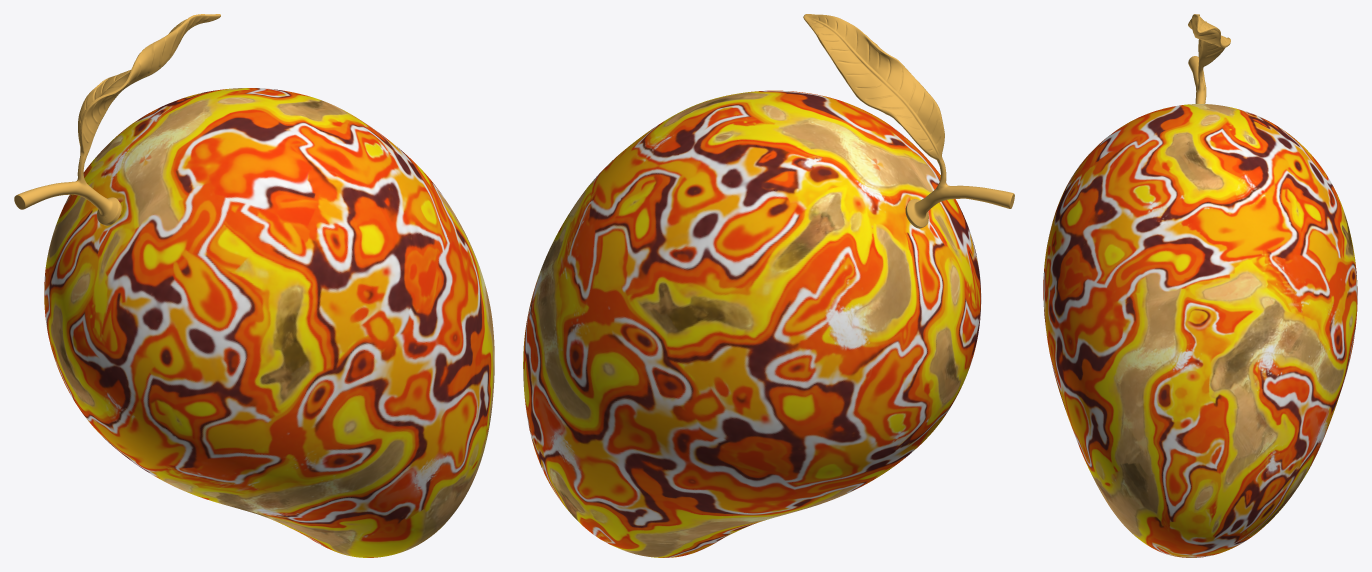
The model's file is mango.glb.
3 views of the same model, side by side, from view 1: azimuth 30°, elevation 25°; view 2: azimuth 150°, elevation 25°; view 3: azimuth 270°, elevation 25° (orthographic). The views are drawn at different scales.
Parts seen in each view (by area): view 1: Mango_Body, Mango_Gold_Stem_Leaf; view 2: Mango_Body, Mango_Gold_Stem_Leaf; view 3: Mango_Body, Mango_Gold_Stem_Leaf.
Part boxes in pixels (x1,y1,x2,y2): Mango_Body: [44, 88, 494, 557]; Mango_Gold_Stem_Leaf: [14, 14, 220, 225]; Mango_Body: [523, 90, 981, 557]; Mango_Gold_Stem_Leaf: [803, 14, 1014, 228]; Mango_Body: [1043, 104, 1357, 557]; Mango_Gold_Stem_Leaf: [1188, 14, 1230, 103].
Bounding box in the file's own units: 1.52 × 1.8 × 1.1.
Materials: 2 (1 with a texture image).
